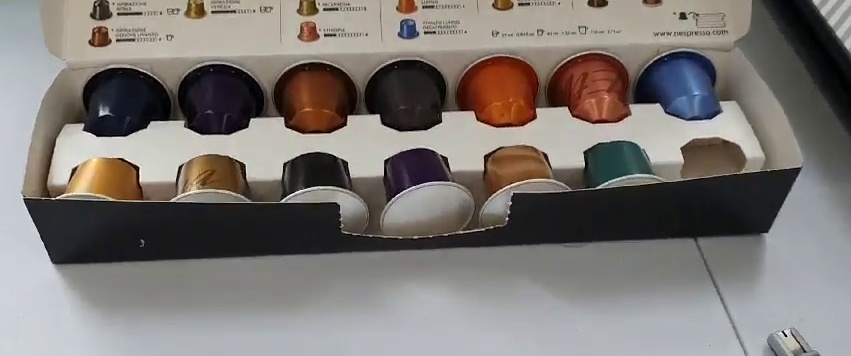capsule_1: (83, 63, 174, 137)
capsule_10: (274, 155, 372, 237)
capsule_11: (375, 149, 472, 237)
capsule_12: (479, 144, 567, 227)
capsule_13: (576, 139, 664, 204)
capsule_2: (172, 61, 266, 133)
capsule_3: (270, 63, 361, 135)
capsule_4: (360, 57, 454, 133)
capsule_5: (453, 51, 541, 128)
capsule_6: (543, 45, 634, 126)
capsule_7: (637, 47, 726, 123)
capsule_8: (50, 153, 146, 207)
capsule_9: (164, 154, 254, 208)
